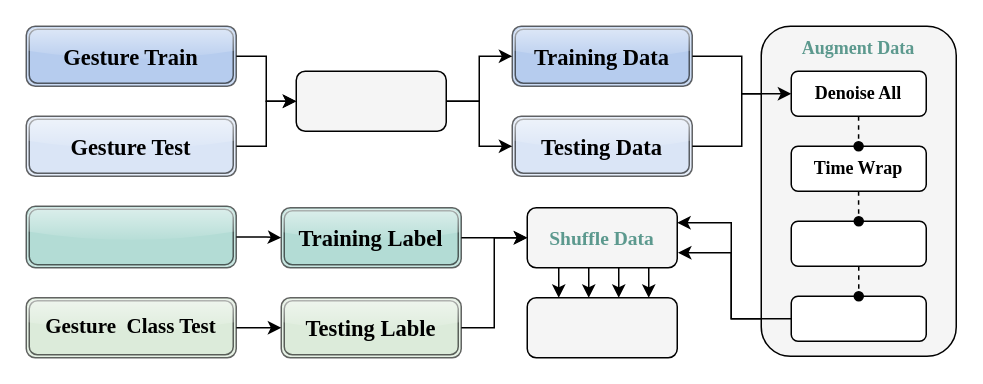
The diagram is 983 pixels wide and 384 high, and some of its shapes have lost their labels. Each missing label, with the centre of its shape:
"Data Type Convesion" belongs at (601,327).
"Gesture Class Train" belongs at (130,236).
"Interpolate" belongs at (858,318).
"Multiplier" belongs at (858,243).
"Pad Data" belongs at (370,100).
